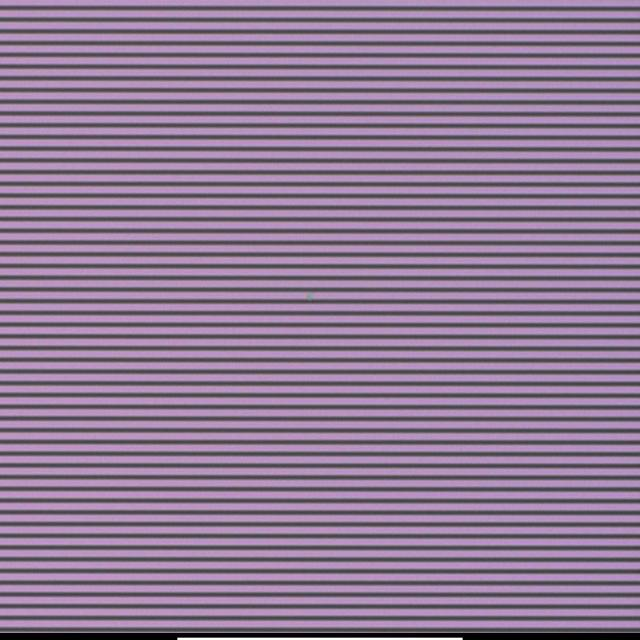03_intrusion: (305, 290, 315, 303)
